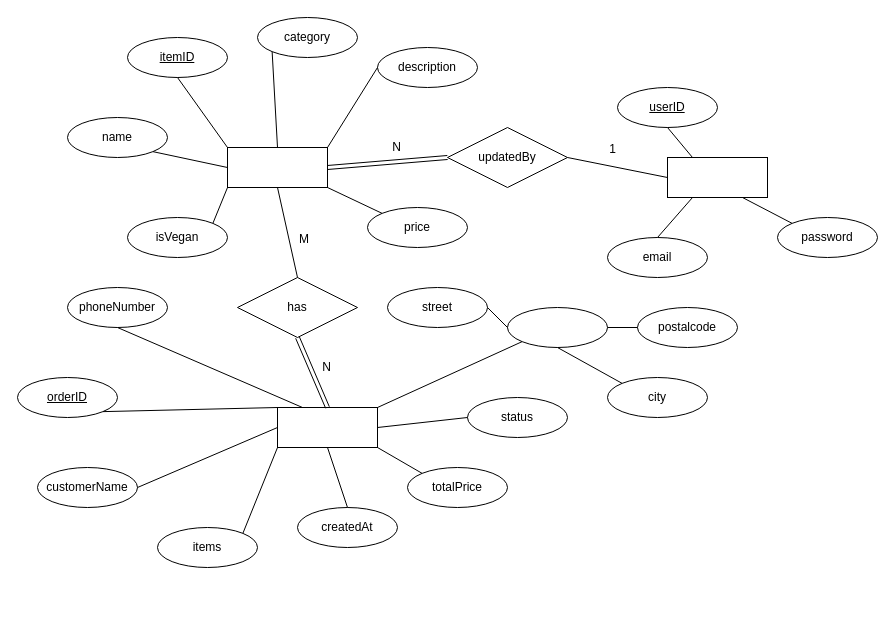
Image size: 895x625. Some labels were removed from this diagram. The shapes that lost their labels are listed below. From the top down, each one's centre as x and y in pixels, then its label:
(x=277, y=167): menuItems
(x=717, y=177): users
(x=557, y=327): address
(x=327, y=427): orders
